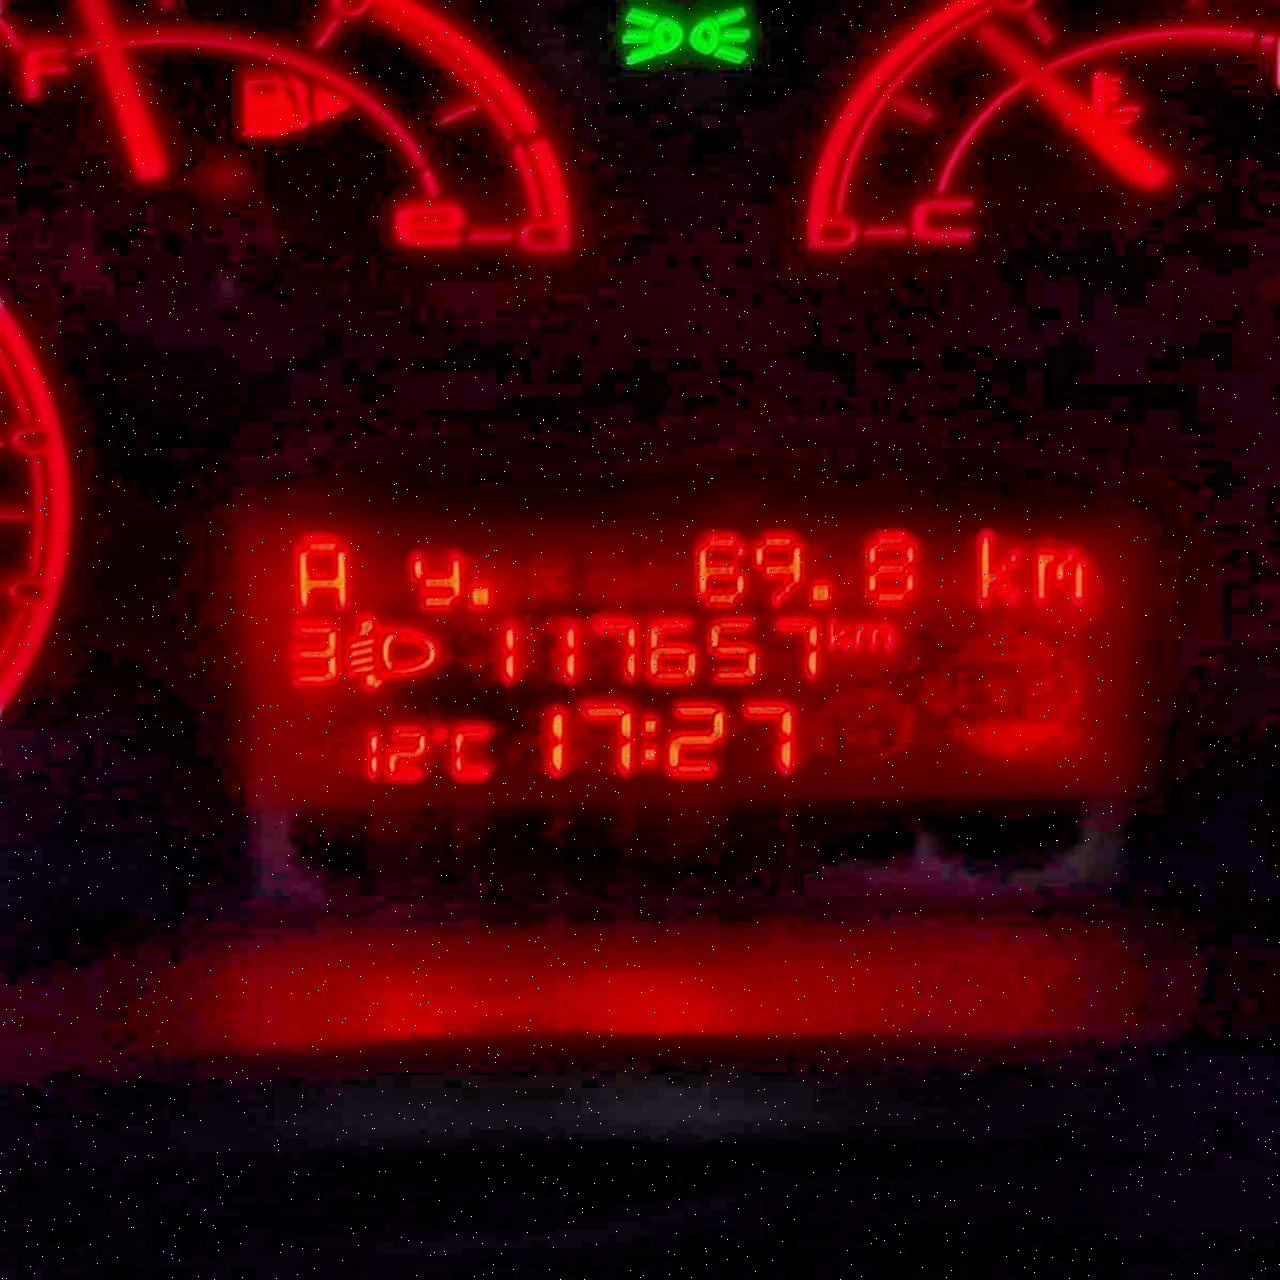-: (459, 576, 496, 614), (805, 573, 836, 611)
1: (535, 700, 570, 782), (491, 615, 526, 687), (549, 617, 585, 683), (350, 722, 381, 784)
2: (663, 694, 728, 787), (381, 717, 427, 788)
3: (285, 617, 340, 692)
5: (703, 611, 765, 687)
6: (679, 526, 751, 612), (647, 612, 700, 689)
7: (734, 694, 802, 781), (574, 695, 634, 783), (585, 612, 642, 686), (769, 612, 822, 687)
8: (856, 523, 922, 611)
9: (750, 526, 804, 612)
X: (284, 527, 354, 612), (965, 523, 1026, 612), (1028, 542, 1095, 613), (403, 546, 459, 615), (448, 716, 495, 788), (853, 619, 899, 655), (636, 709, 659, 771), (824, 611, 853, 655)
odometer: (232, 504, 1149, 811)
